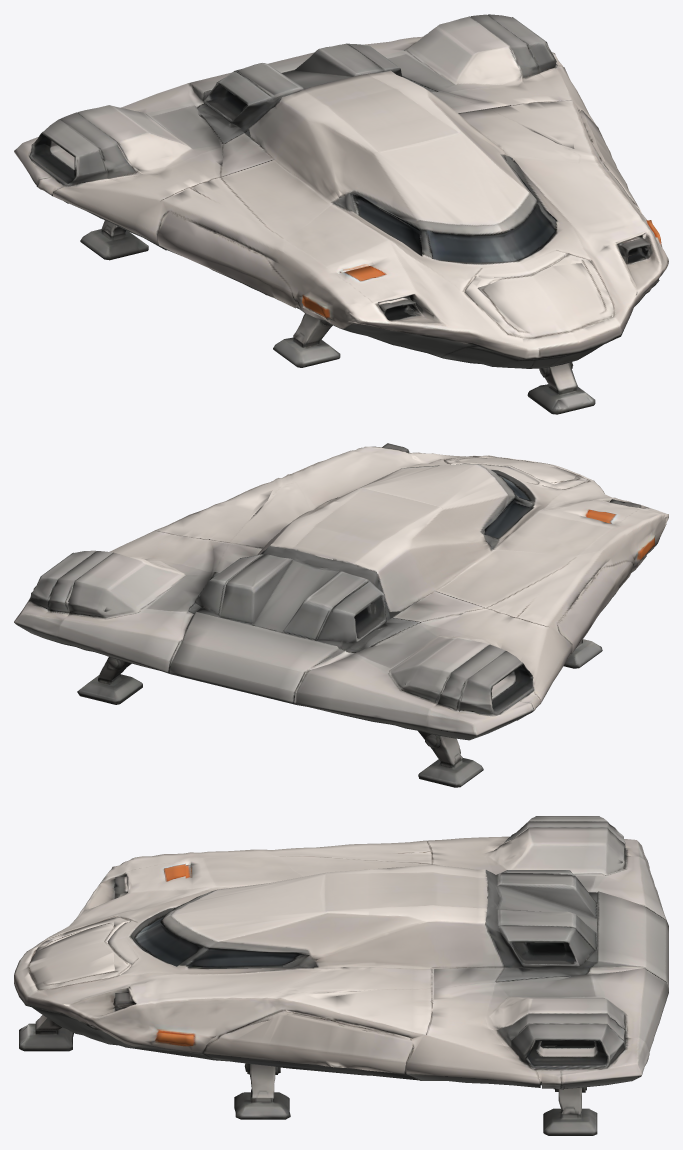
3 renders of one model, top to bottom at view 1: azimuth 30°, elevation 25°; view 2: azimuth 150°, elevation 25°; view 3: azimuth 270°, elevation 25°, orthographic. The views are drawn at different scales.
Visible parts, largest first — view 1: tripo_node_984acbb6-5f7d-4ae2-8674-1084868e77ef; view 2: tripo_node_984acbb6-5f7d-4ae2-8674-1084868e77ef; view 3: tripo_node_984acbb6-5f7d-4ae2-8674-1084868e77ef.
Boxes of the visible parts, box(x1,y1,x2,y2) form: tripo_node_984acbb6-5f7d-4ae2-8674-1084868e77ef: box(14, 14, 668, 414); tripo_node_984acbb6-5f7d-4ae2-8674-1084868e77ef: box(14, 443, 668, 787); tripo_node_984acbb6-5f7d-4ae2-8674-1084868e77ef: box(14, 816, 668, 1135).
Bounding box in the file's own units: 0.8713 × 0.2508 × 0.9785.
1 material, 1 textured.
